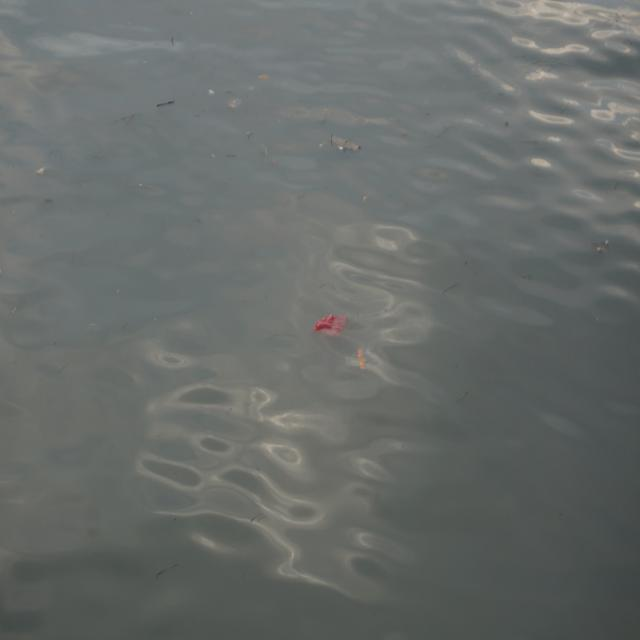Kantong Plastik: (311, 309, 350, 339)
